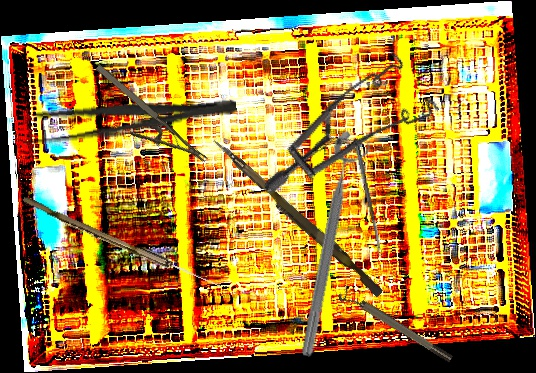Dressing Forceps: (19, 87, 239, 151)
Fixation Ring: (294, 128, 375, 362), (336, 284, 455, 369)
Needle Holder: (79, 60, 208, 185)
Pusher: (206, 137, 388, 298)
Speculum: (261, 25, 454, 246)
Surgical Spoon: (20, 196, 224, 291), (353, 138, 383, 257)
